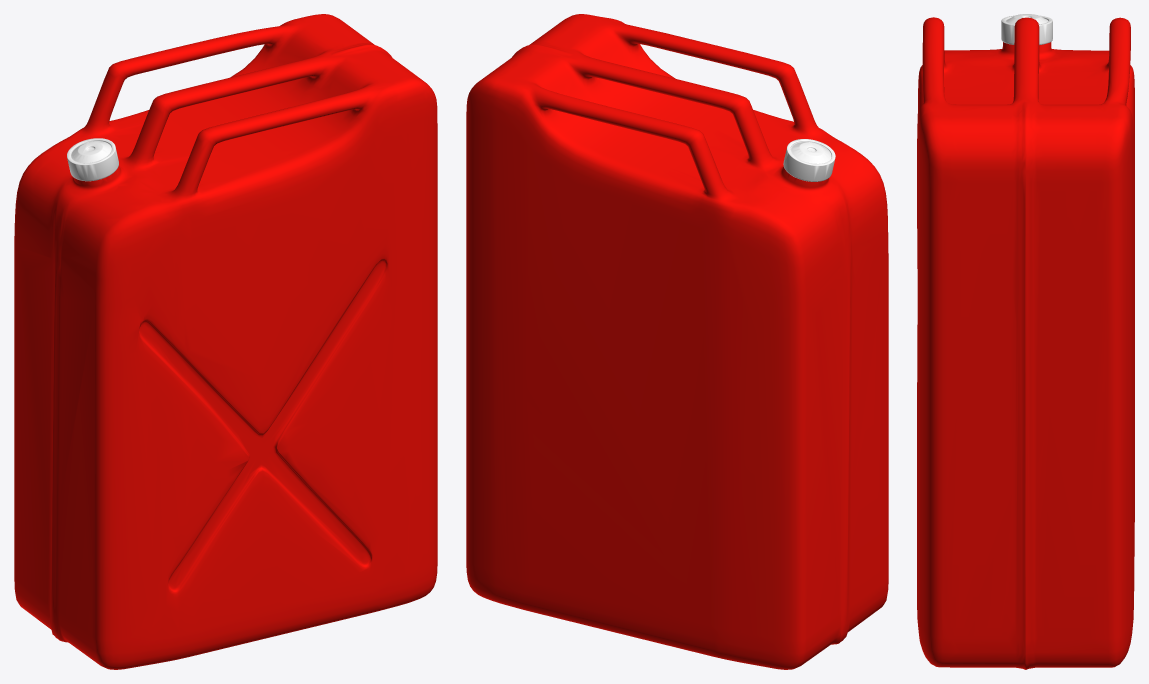
The model's file is tank.glb.
The picture shows the model from 3 angles, left to right: view 1: azimuth 30°, elevation 25°; view 2: azimuth 150°, elevation 25°; view 3: azimuth 270°, elevation 25°; orthographic projection. The views are drawn at different scales.
Visible parts, largest first — view 1: Object_4, Object_5; view 2: Object_4, Object_5; view 3: Object_4, Object_5.
Part boxes in pixels (box(x1,y1,x2,y2)): Object_4: box(14, 14, 437, 669); Object_5: box(67, 138, 118, 181); Object_4: box(466, 14, 888, 669); Object_5: box(783, 139, 835, 181); Object_4: box(917, 17, 1134, 669); Object_5: box(1001, 14, 1052, 44).
Size of the model in its own units: 0.338 by 0.4943 by 0.179.
